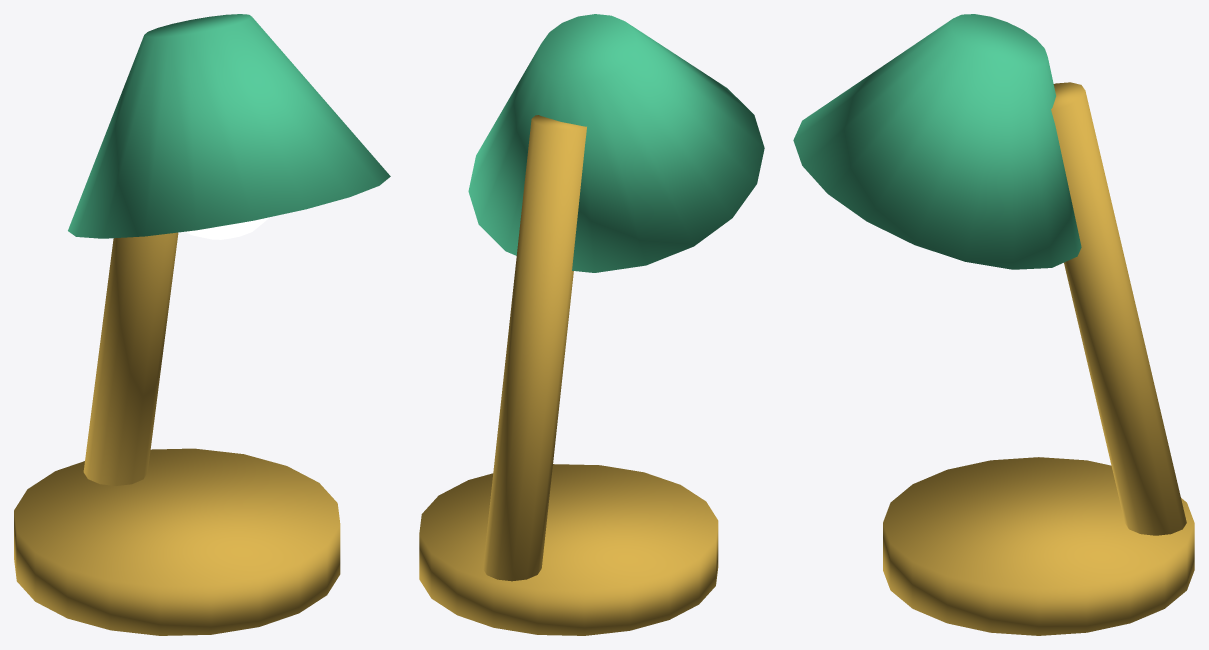
Rendered from Decor_DeskLamp.fbx.
3 renders of one model, left to right at view 1: azimuth 30°, elevation 25°; view 2: azimuth 150°, elevation 25°; view 3: azimuth 270°, elevation 25°, orthographic. The views are drawn at different scales.
Visible parts, largest first — view 1: Lamp_Base, Lamp_Shade, Lamp_Stem, Lamp_Bulb; view 2: Lamp_Shade, Lamp_Base, Lamp_Stem; view 3: Lamp_Shade, Lamp_Base, Lamp_Stem.
Boxes of the visible parts, bbox=[...] form: Lamp_Base: bbox=[14, 448, 340, 635]; Lamp_Shade: bbox=[68, 14, 390, 238]; Lamp_Stem: bbox=[83, 232, 178, 485]; Lamp_Bulb: bbox=[185, 217, 269, 239]; Lamp_Shade: bbox=[468, 14, 764, 272]; Lamp_Base: bbox=[419, 464, 718, 635]; Lamp_Stem: bbox=[483, 115, 586, 581]; Lamp_Shade: bbox=[793, 14, 1081, 269]; Lamp_Base: bbox=[883, 457, 1194, 635]; Lamp_Stem: bbox=[1051, 82, 1186, 535].
Bounding box in the file's own units: 3.6 × 6.94 × 4.63.
